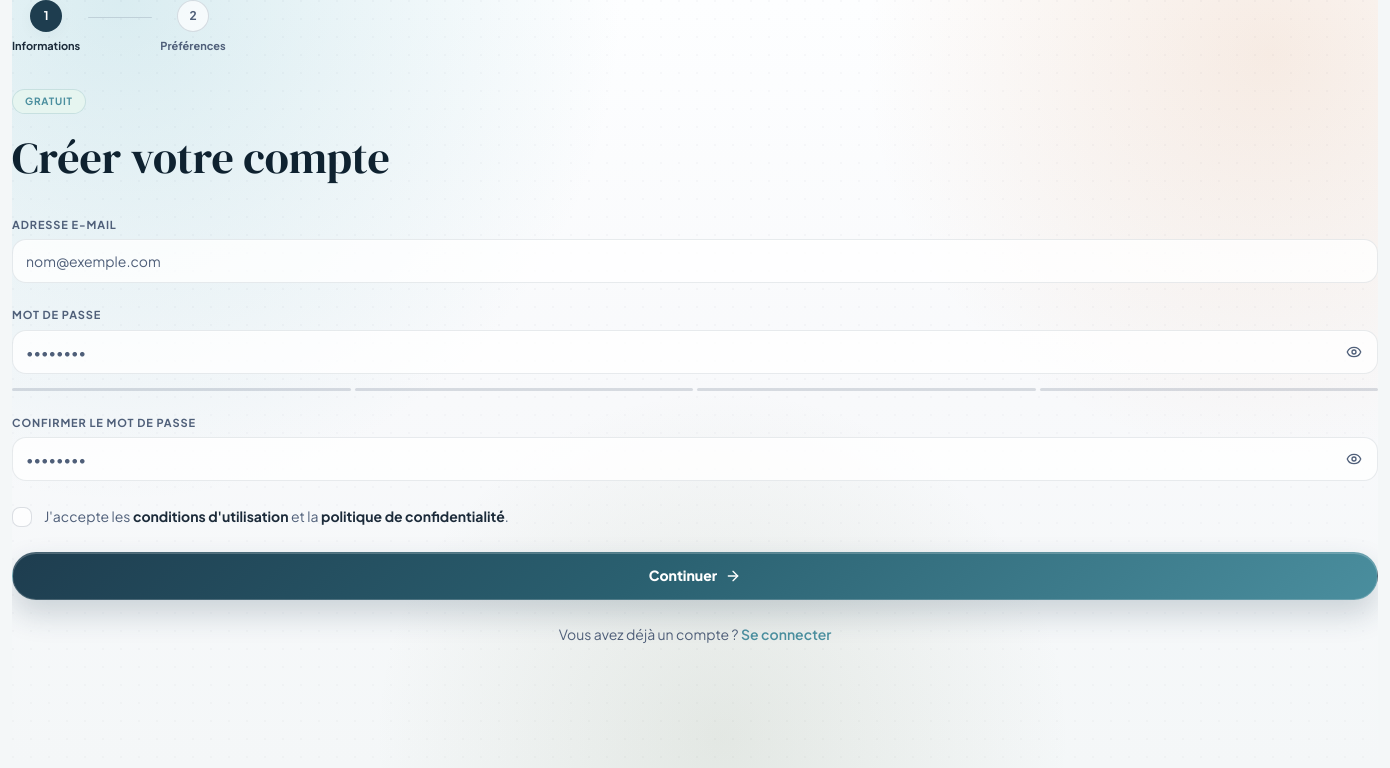
it: RegisterStep1Form › affiche une erreur si les mots de passe ne correspondent pas
The width and height of the screenshot is (1390, 768).
Type "user@example.com" into the field labelled "ADRESSE E-MAIL". click: coordinates (695, 261)
box: [12,239,1378,283]
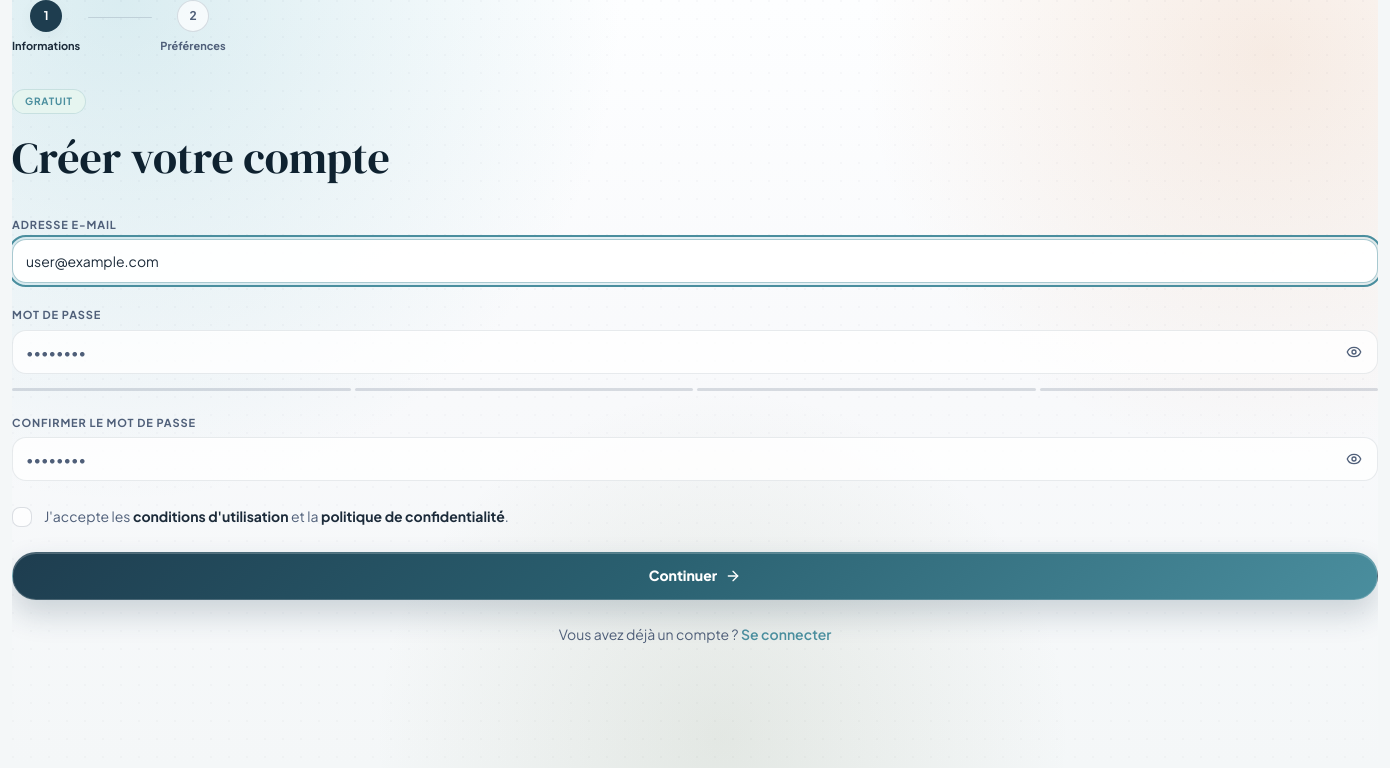
Type "Sup3rSecret" into the password field labelled "MOT DE PASSE". click: coordinates (695, 352)
box: [12,330,1378,374]
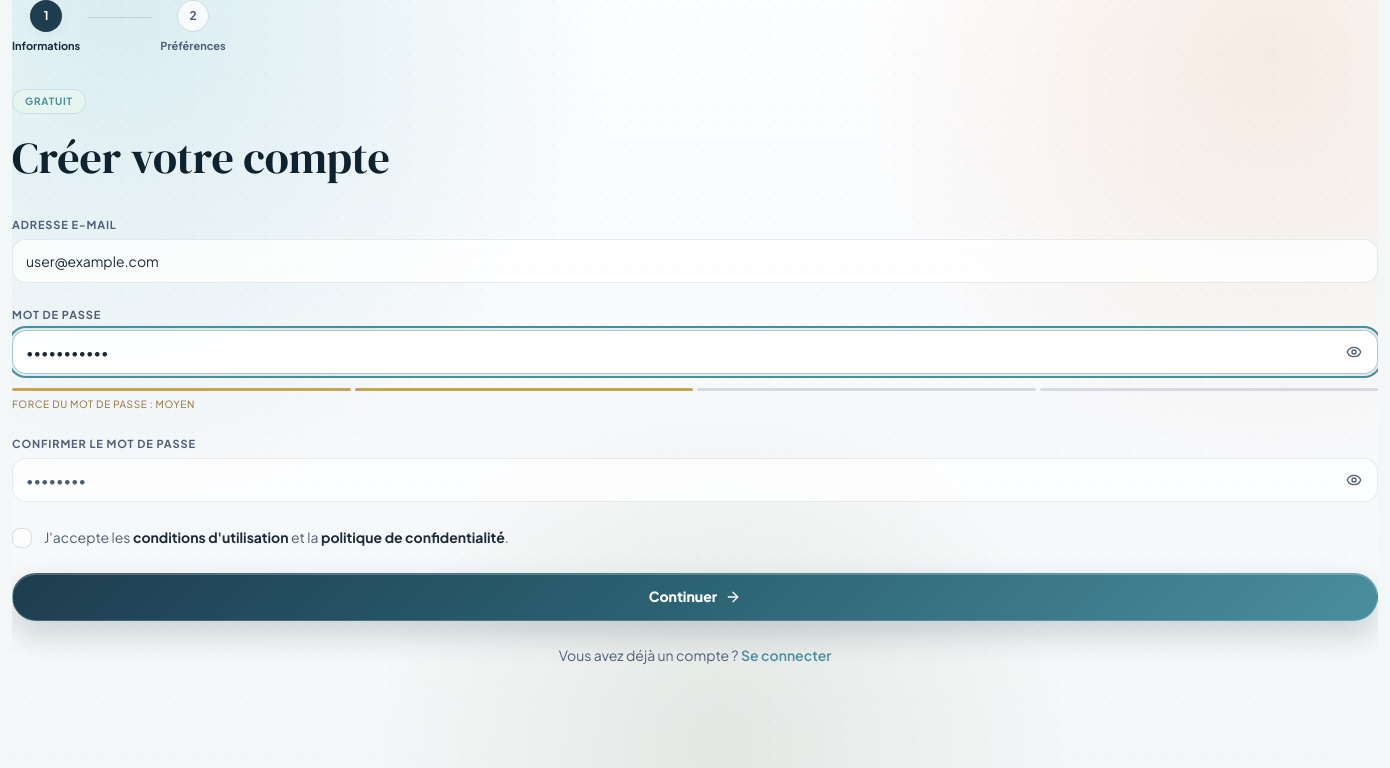
Type "Different1" into the password field labelled "CONFIRMER LE MOT DE PASSE". click: coordinates (695, 480)
box: [12,458,1378,502]
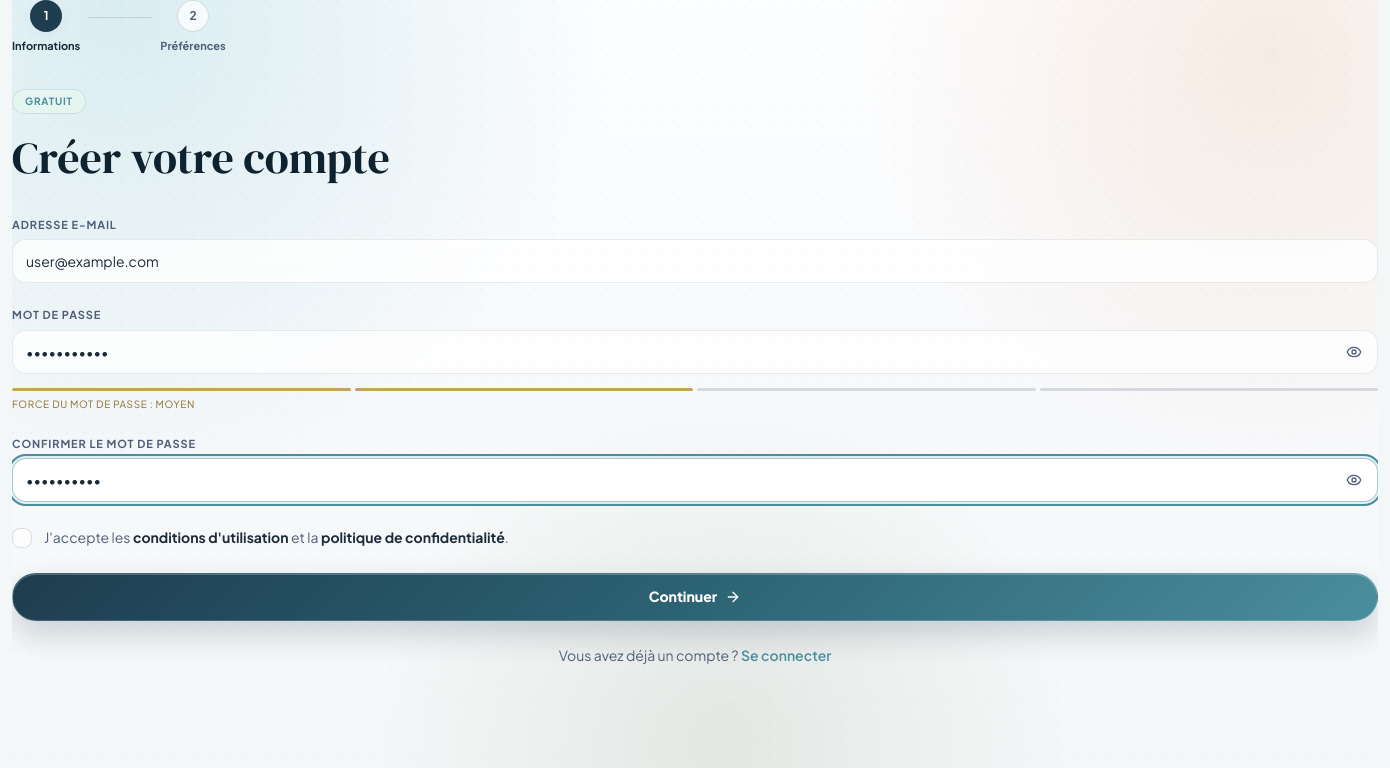
Click the checkbox named "j'accepte les". click: coordinates (22, 538)
box: [12,528,32,548]
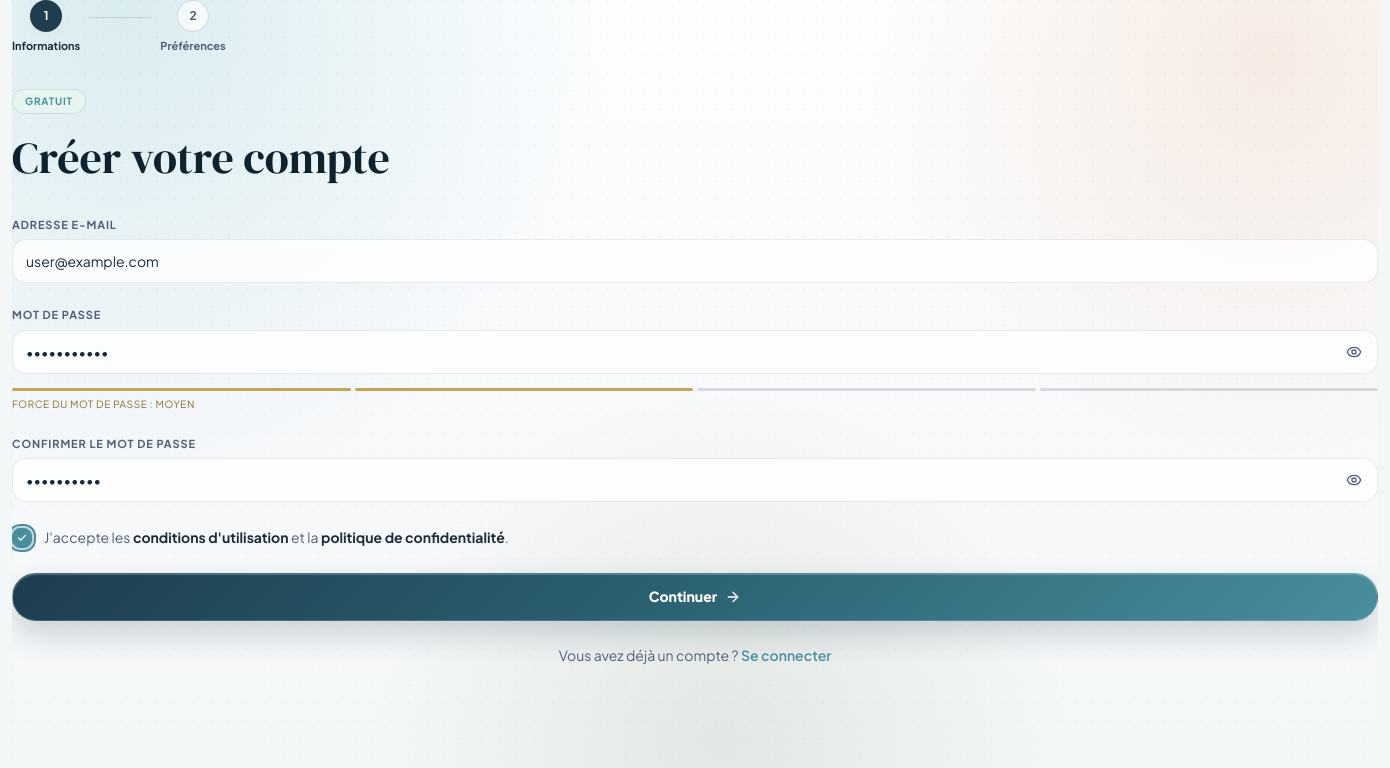
Click the button "Continuer". click: coordinates (695, 597)
box: [12,573,1378,621]
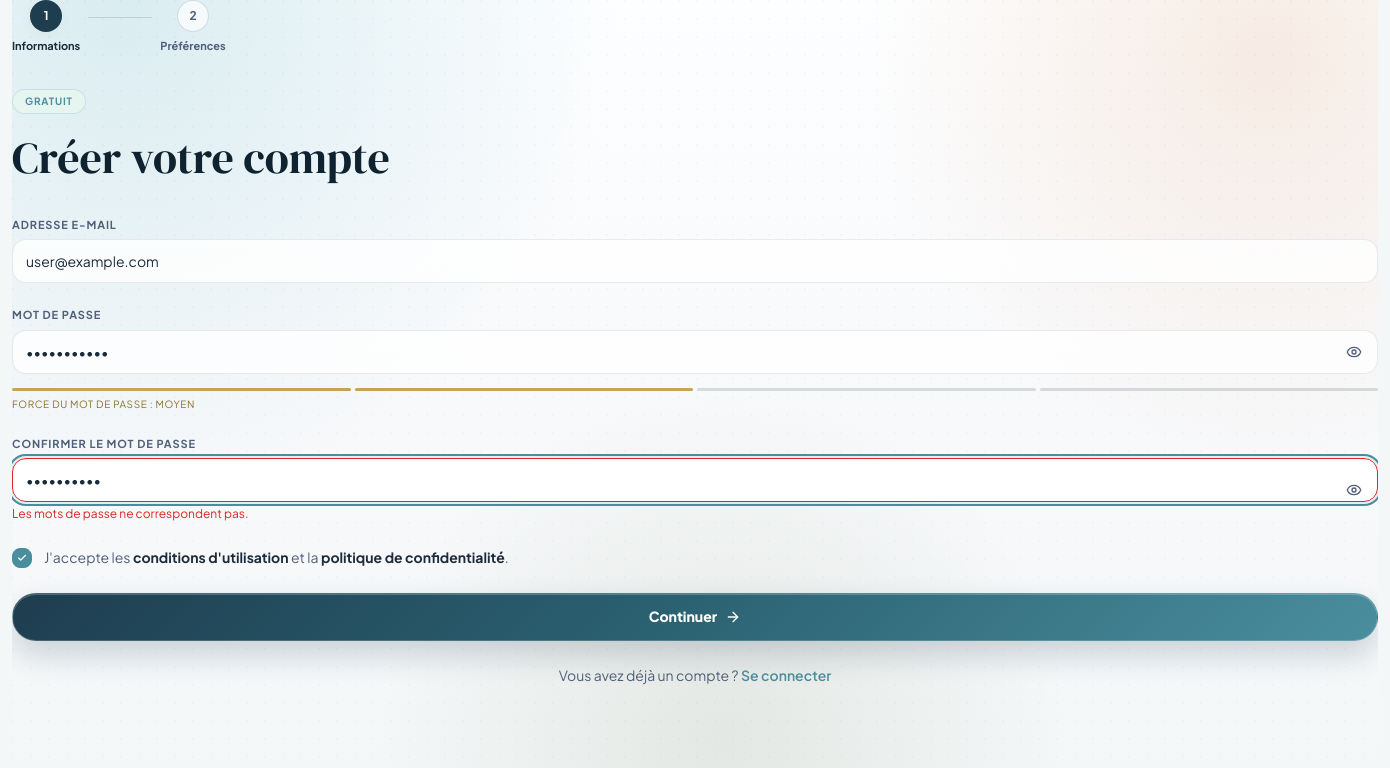
Result: the text "Les mots de passe ne correspondent pas." is shown at [12,506,248,521]
